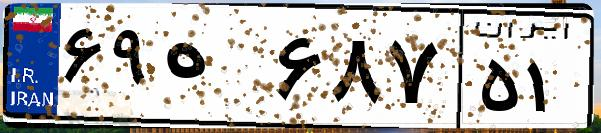1: (525, 38, 570, 115)
5: (475, 38, 525, 113)
6: (270, 28, 330, 110), (57, 26, 110, 100)
7: (385, 28, 445, 110)
8: (330, 28, 385, 110)
9: (110, 28, 158, 98)
ه: (158, 20, 270, 120)
